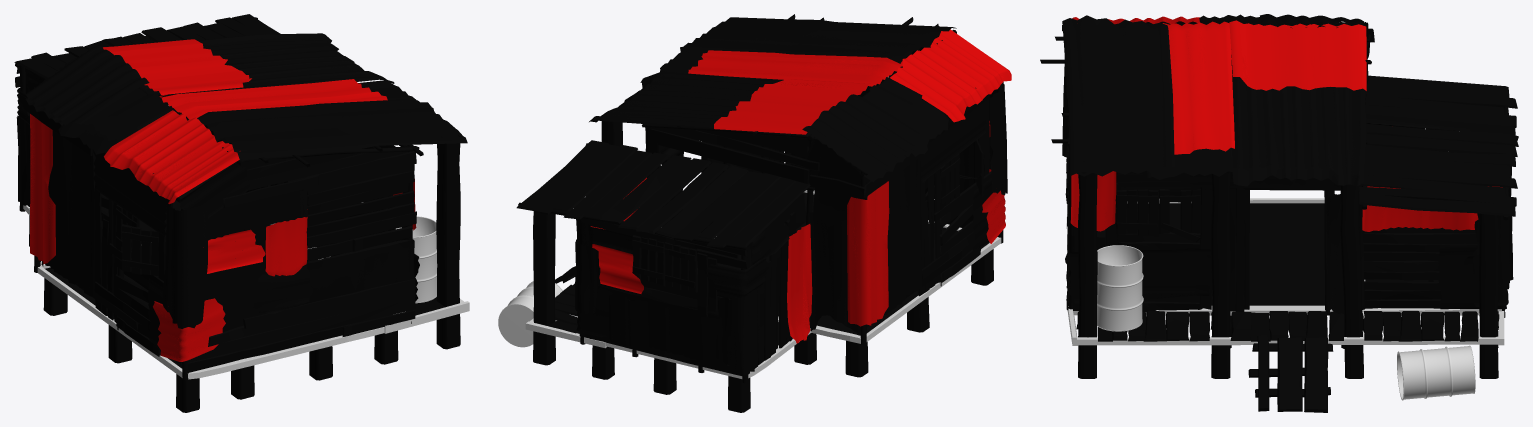
Rendered from Juliusz_Krzeminski_Chata.fbx.
3 views of the same model, side by side, from view 1: azimuth 30°, elevation 25°; view 2: azimuth 150°, elevation 25°; view 3: azimuth 270°, elevation 25° (orthographic). The views are drawn at different scales.
Visible parts, largest first — view 1: Baza, Barrel; view 2: Baza, Barrel; view 3: Baza, Barrel.
Part boxes in pixels (x1,y1,x2,y2): Baza: (14, 14, 469, 412); Barrel: (396, 216, 437, 303); Baza: (516, 14, 1011, 412); Barrel: (498, 281, 562, 347); Baza: (1040, 14, 1518, 412); Barrel: (1097, 245, 1475, 400).
Size of the model in its own units: 615 by 408 by 690.
